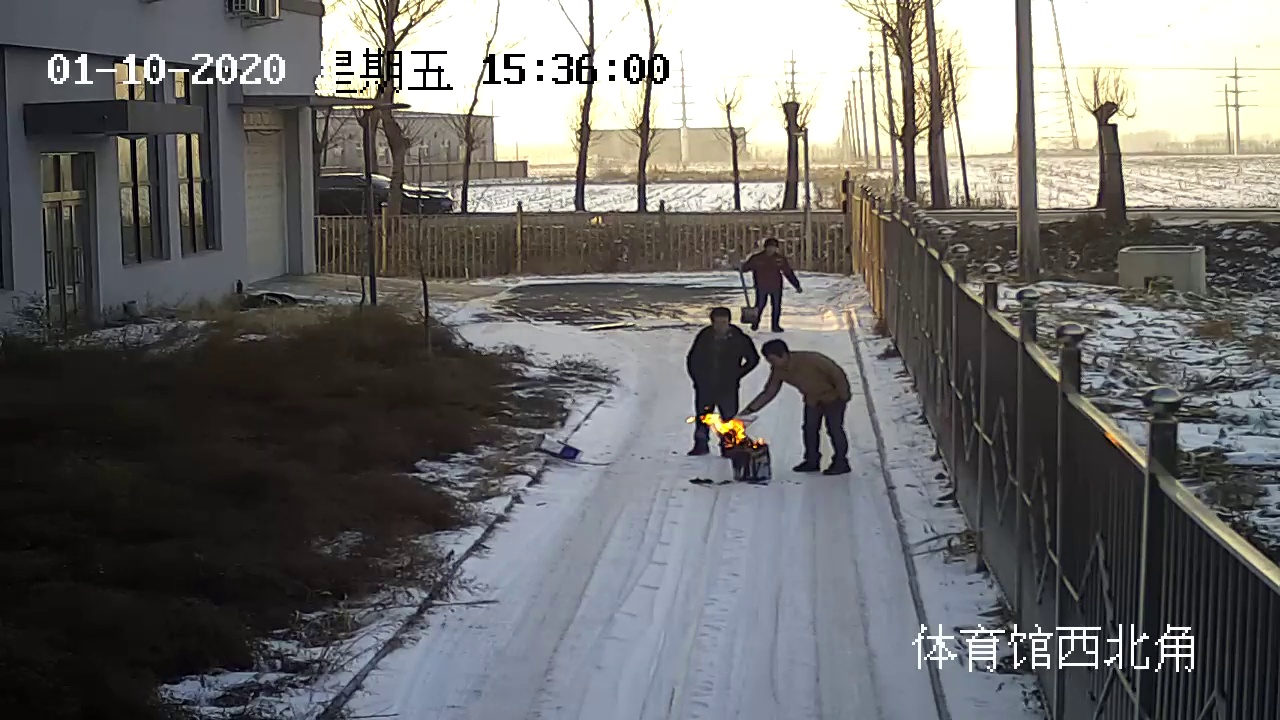fire: (700, 408, 749, 442)
